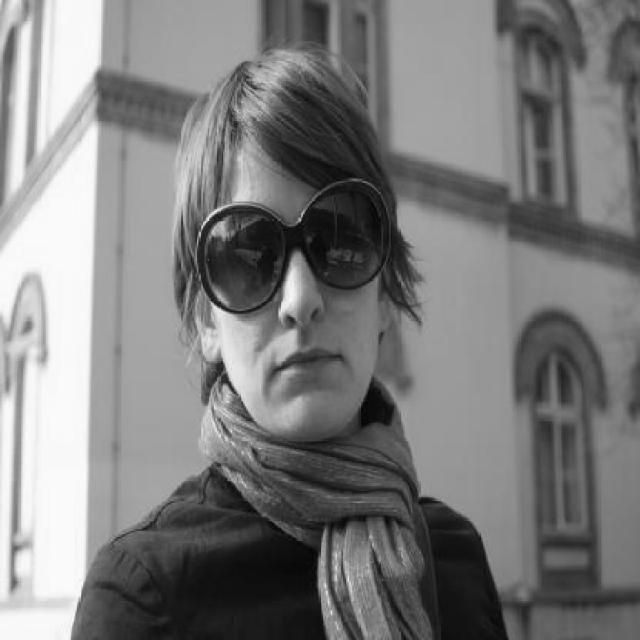face_nomask: (211, 188, 380, 400)
glasses: (192, 177, 402, 312)
head_nohelmet: (174, 46, 386, 154)
person: (108, 37, 486, 640)
